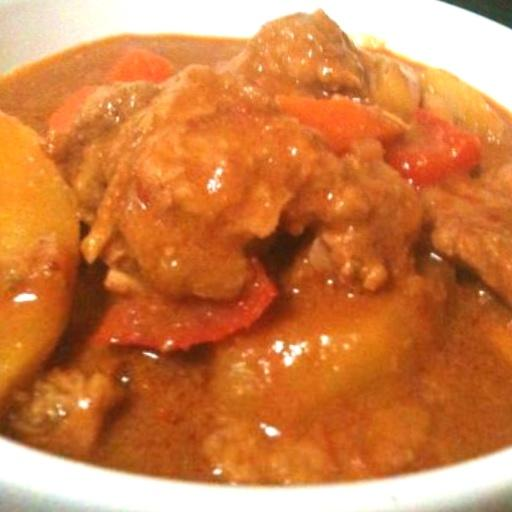pork caldereta: (0, 18, 511, 486)
